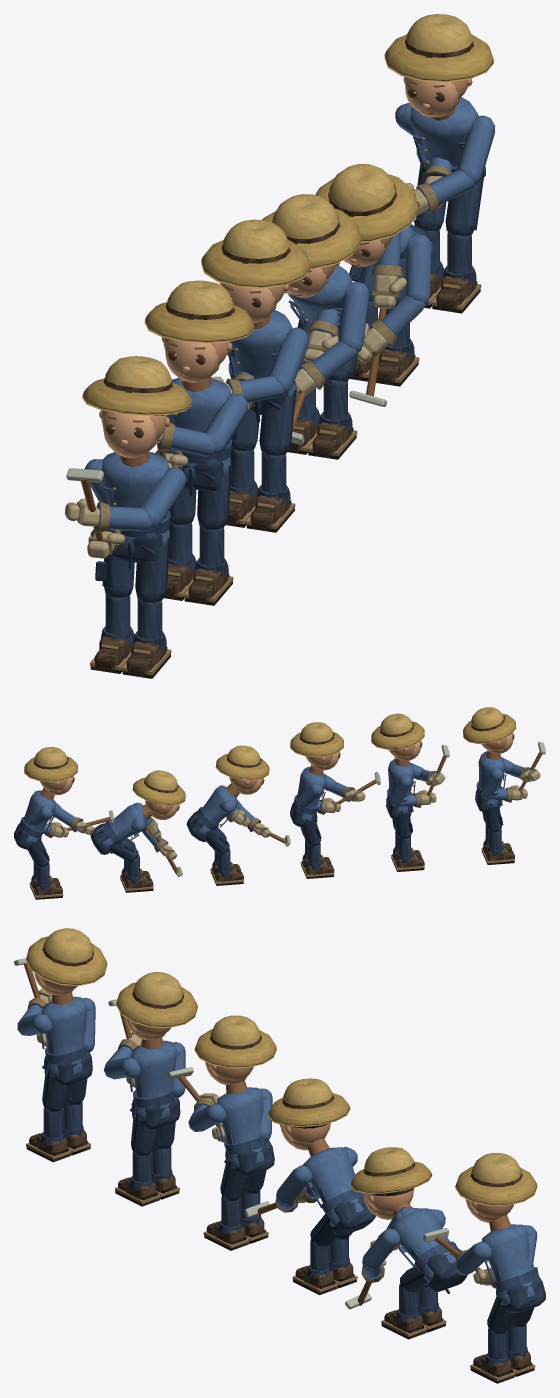
Rendered from audit-hf-player-farmhand-hoe-side.glb.
3 views of the same model, one above another, from view 1: azimuth 30°, elevation 25°; view 2: azimuth 150°, elevation 25°; view 3: azimuth 270°, elevation 25° (orthographic). The views are drawn at different scales.
Parts seen in each view (by area): view 1: strawHat (×6), leftShin (×6), denimJacketTorso (×5), head (×6), leftUpperArm (×6), rightShin (×4), leftThigh (×4), leftLowerArm (×6), rightHandMesh (×2), rightThigh (×2), leftHandMesh (×2), trouserHips (×2); view 2: strawHat (×6), denimJacketTorso (×6), rightShin (×6), rightThigh (×6), head (×6), rightUpperArm (×5), trouserHips (×4), leftHandMesh (×4), rightHandMesh (×4); view 3: strawHat (×6), denimJacketTorso (×6), leftShin (×6), rightShin (×6), trouserHips (×6), leftUpperArm (×6), leftThigh (×5), head (×4).
Boxes of the visible parts, bbox=[...] form: strawHat (×6): bbox=[82, 14, 493, 415]; leftShin (×6): bbox=[122, 232, 481, 678]; denimJacketTorso (×5): bbox=[101, 97, 485, 552]; head (×6): bbox=[99, 77, 472, 458]; leftUpperArm (×6): bbox=[141, 115, 495, 528]; rightShin (×4): bbox=[90, 387, 320, 673]; leftThigh (×4): bbox=[135, 171, 484, 602]; leftLowerArm (×6): bbox=[95, 169, 474, 531]; rightHandMesh (×2): bbox=[304, 264, 406, 361]; rightThigh (×2): bbox=[95, 408, 259, 597]; leftHandMesh (×2): bbox=[65, 319, 397, 532]; trouserHips (×2): bbox=[111, 460, 223, 569]; strawHat (×6): bbox=[24, 707, 516, 805]; denimJacketTorso (×6): bbox=[16, 751, 506, 850]; rightShin (×6): bbox=[32, 829, 514, 899]; rightThigh (×6): bbox=[28, 804, 503, 867]; head (×6): bbox=[40, 732, 514, 819]; rightUpperArm (×5): bbox=[26, 767, 502, 832]; trouserHips (×4): bbox=[14, 802, 317, 854]; leftHandMesh (×4): bbox=[70, 786, 365, 859]; rightHandMesh (×4): bbox=[45, 785, 527, 837]; strawHat (×6): bbox=[26, 928, 537, 1205]; denimJacketTorso (×6): bbox=[40, 992, 538, 1305]; leftShin (×6): bbox=[26, 1107, 515, 1383]; rightShin (×6): bbox=[63, 1102, 535, 1376]; trouserHips (×6): bbox=[42, 1052, 545, 1313]; leftUpperArm (×6): bbox=[17, 1014, 491, 1275]; leftThigh (×5): bbox=[42, 1068, 515, 1334]; head (×4): bbox=[205, 1062, 514, 1222].
Size of what is drawn, in the model's own units: 6.28 by 2.41 by 5.23.
